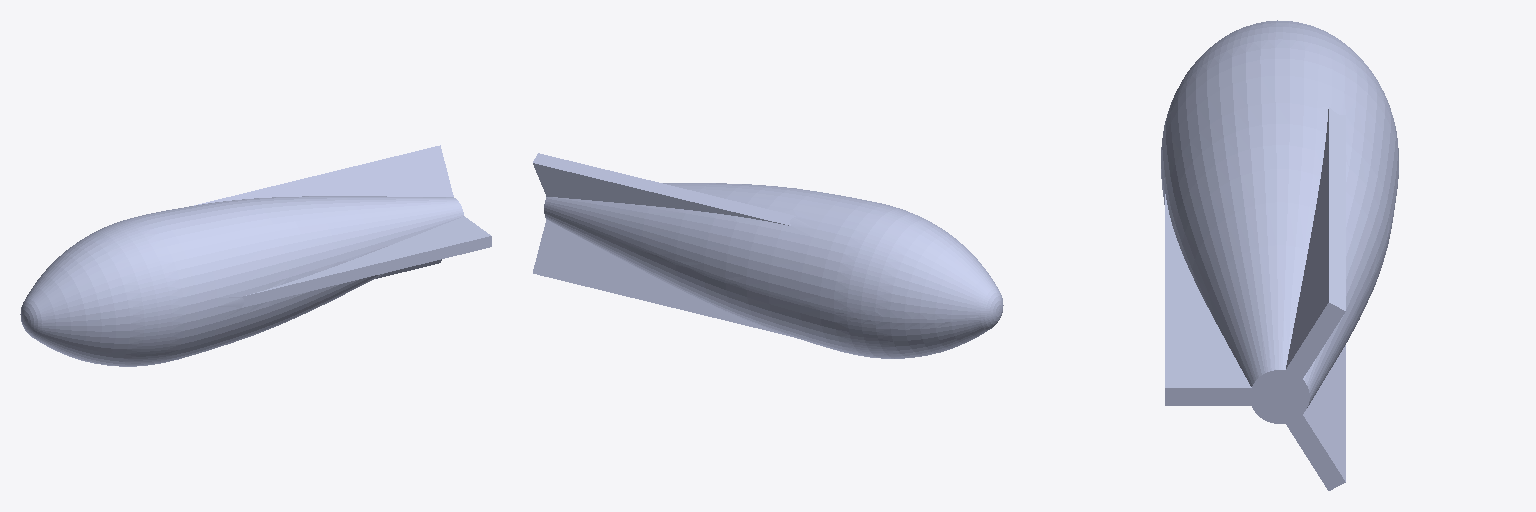
robot.urdf — torPEDO:
<?xml version="1.0" encoding="utf-8"?>
<!-- This URDF was automatically created by SolidWorks to URDF Exporter! Originally created by Stephen Brawner (brawner@gmail.com) 
     Commit Version: 1.6.0-4-g7f85cfe  Build Version: 1.6.7995.38578
     For more information, please see http://wiki.ros.org/sw_urdf_exporter -->
<robot
  name="torPEDO">
  <link
    name="base_link">
    <inertial>
      <origin
        xyz="0 0 0"
        rpy="0 0 0" />
      <mass
        value="0" />
      <inertia
        ixx="0"
        ixy="0"
        ixz="0"
        iyy="0"
        iyz="0"
        izz="0" />
    </inertial>
    <visual>
      <origin
        xyz="0 0 0"
        rpy="0 0 0" />
      <geometry>
        <mesh
          filename="package://torPEDO/meshes/base_link.STL" />
      </geometry>
      <material
        name="">
        <color
          rgba="0.792156862745098 0.819607843137255 0.933333333333333 1" />
      </material>
    </visual>
    <collision>
      <origin
        xyz="0 0 0"
        rpy="0 0 0" />
      <geometry>
        <mesh
          filename="package://torPEDO/meshes/base_link.STL" />
      </geometry>
    </collision>
  </link>
</robot>

--- Render facts (derived) ---
3 views of the same robot in one strip: view 1: azimuth 30°, elevation 25°; view 2: azimuth 150°, elevation 25°; view 3: azimuth 270°, elevation 25° (orthographic).
Model torPEDO with 1 links and 0 joints (none), rooted at base_link, posed all joints at 0.
Visible links, largest first — view 1: base_link; view 2: base_link; view 3: base_link.
Boxes of the visible links, bbox=[...] form: base_link: bbox=[20, 145, 491, 366]; base_link: bbox=[533, 153, 1003, 358]; base_link: bbox=[1161, 20, 1398, 490].
Size in the robot's own frame: 0.08 by 0.0239 by 0.0239 metres.
Meshes: 1 distinct files referenced, 1 mesh visuals loaded (1 binary STL).
